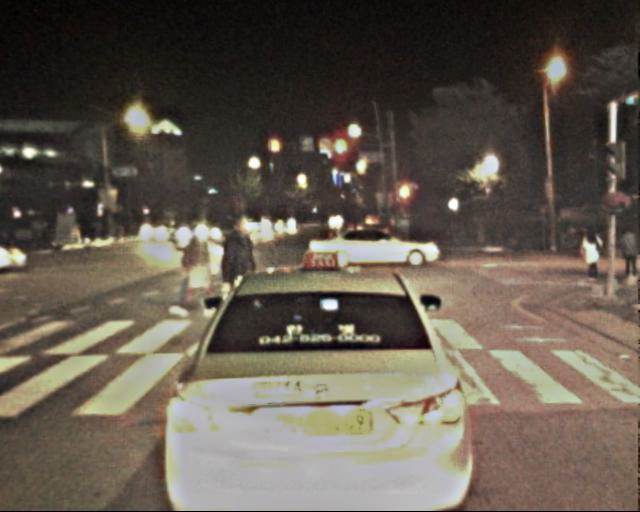person: (206, 215, 264, 357), (173, 222, 214, 322), (581, 226, 605, 284), (618, 227, 640, 283)
